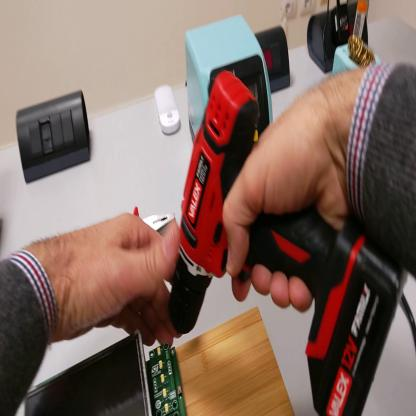electric screwdriver: (171, 74, 365, 358)
hand: (221, 76, 358, 316), (38, 210, 188, 350)
low voltage board: (28, 330, 189, 415)
pliers: (133, 205, 178, 236)
socket: (308, 4, 369, 72), (256, 23, 293, 89)
welder base: (333, 6, 386, 80)
welder station: (186, 17, 274, 151)
working area: (178, 310, 294, 414)
